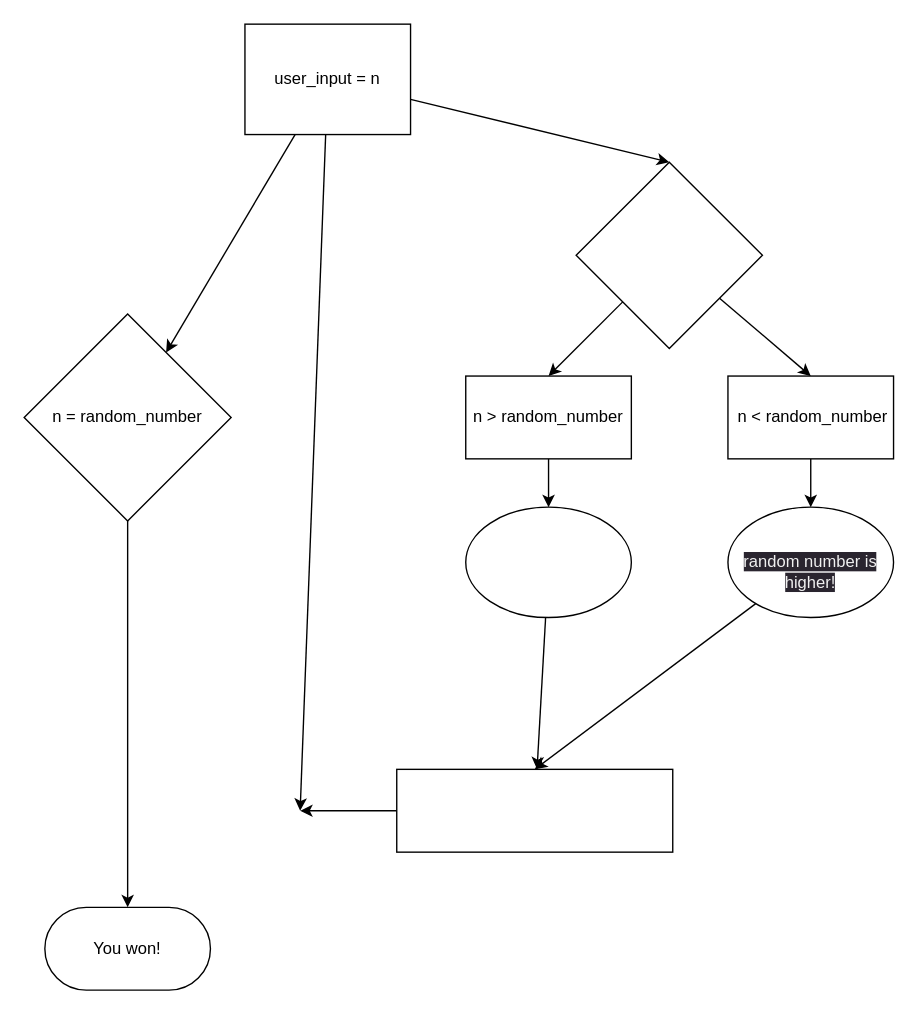
Some shapes in this 918 by 1014 pixel diagram are drawn without their labels. The shapes that lost their labels are listed below. From the top down, each one's centre as x and y in pixels, then its label:
the point at 668,254: n != random_number
the point at 547,562: random number is lower!
the point at 534,810: Gues again
